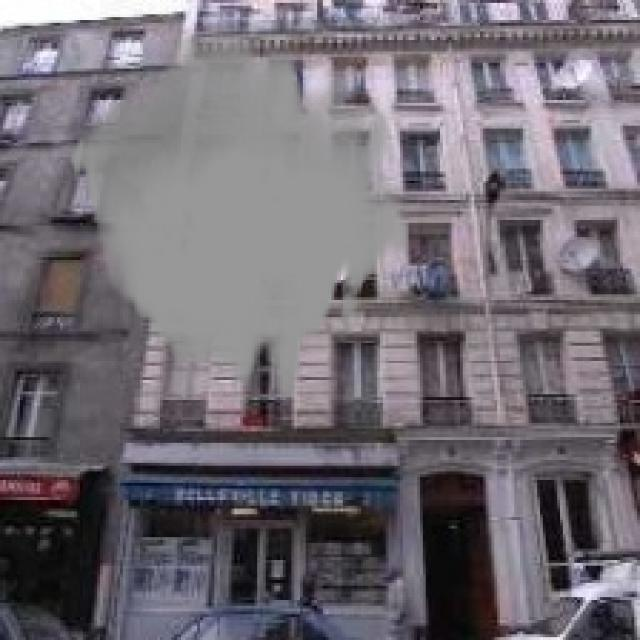Smoke: (69, 26, 412, 397)
